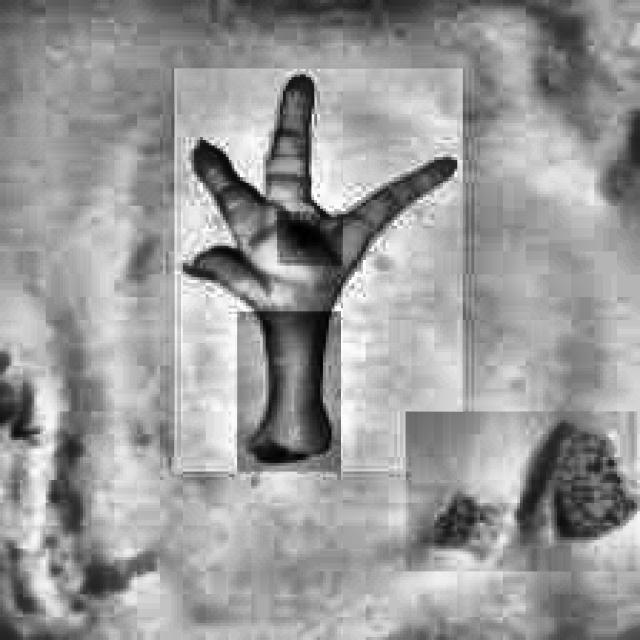Bumble foot: (180, 68, 457, 466), (248, 440, 308, 466), (283, 217, 326, 252)
